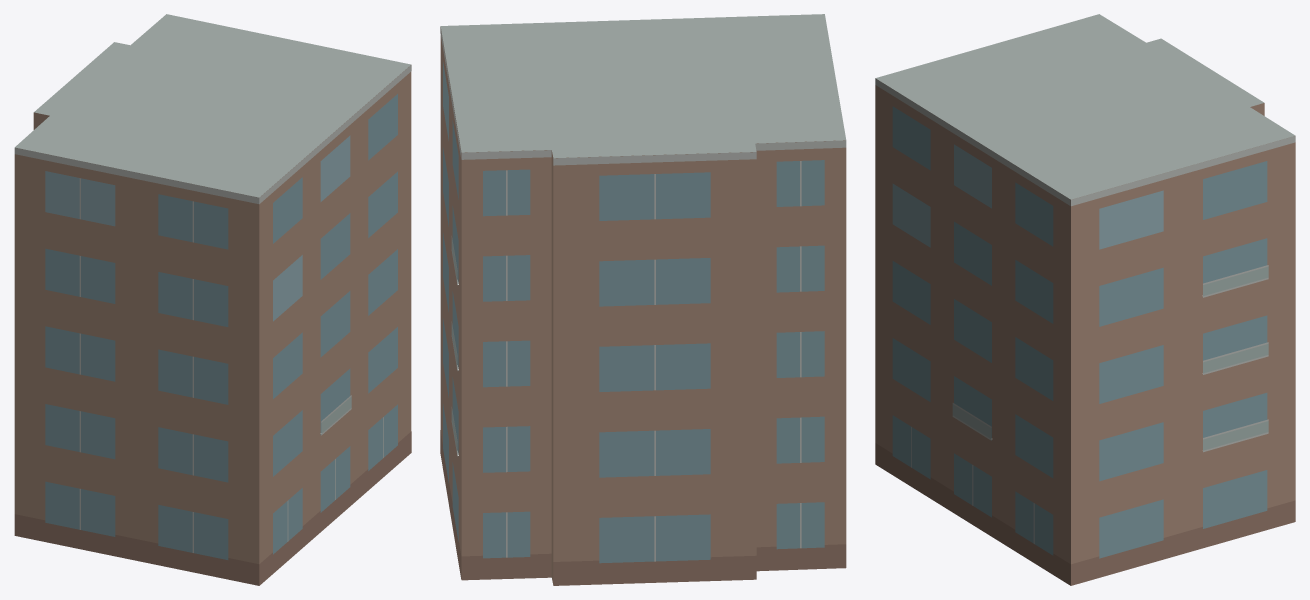
Rendered from survey-upis-32851218.glb.
3 views of the same model, side by side, from view 1: azimuth 30°, elevation 25°; view 2: azimuth 150°, elevation 25°; view 3: azimuth 270°, elevation 25° (orthographic). The views are drawn at different scales.
Visible parts, largest first — view 1: survey-upis-32851218.tmp; view 2: survey-upis-32851218.tmp; view 3: survey-upis-32851218.tmp.
Part boxes in pixels (x1,y1,x2,y2): survey-upis-32851218.tmp: (14, 14, 411, 585); survey-upis-32851218.tmp: (440, 14, 846, 585); survey-upis-32851218.tmp: (875, 14, 1295, 585).
Size of the model in its own units: 14.65 by 14.2 by 14.02.
